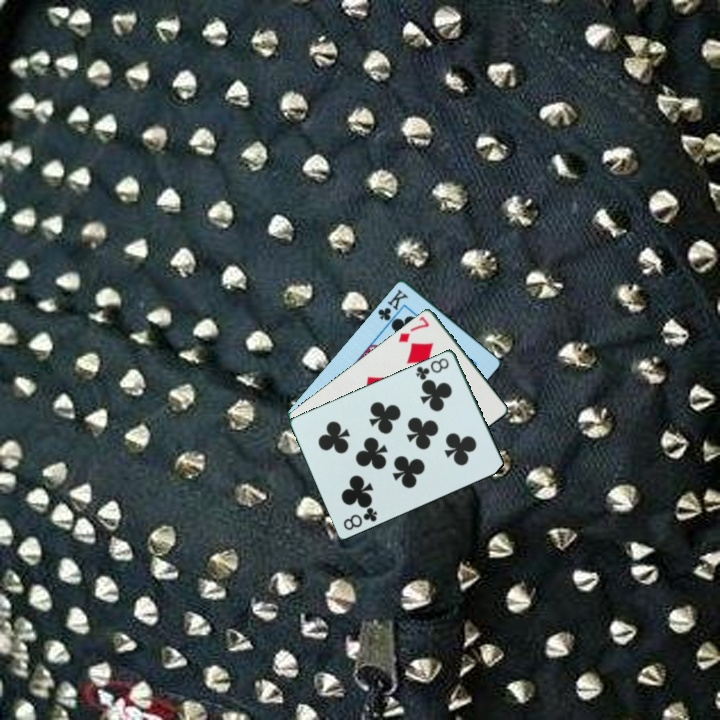7d: (395, 313, 432, 345)
8c: (340, 504, 381, 533), (412, 354, 452, 383)
Kc: (374, 285, 411, 323)
